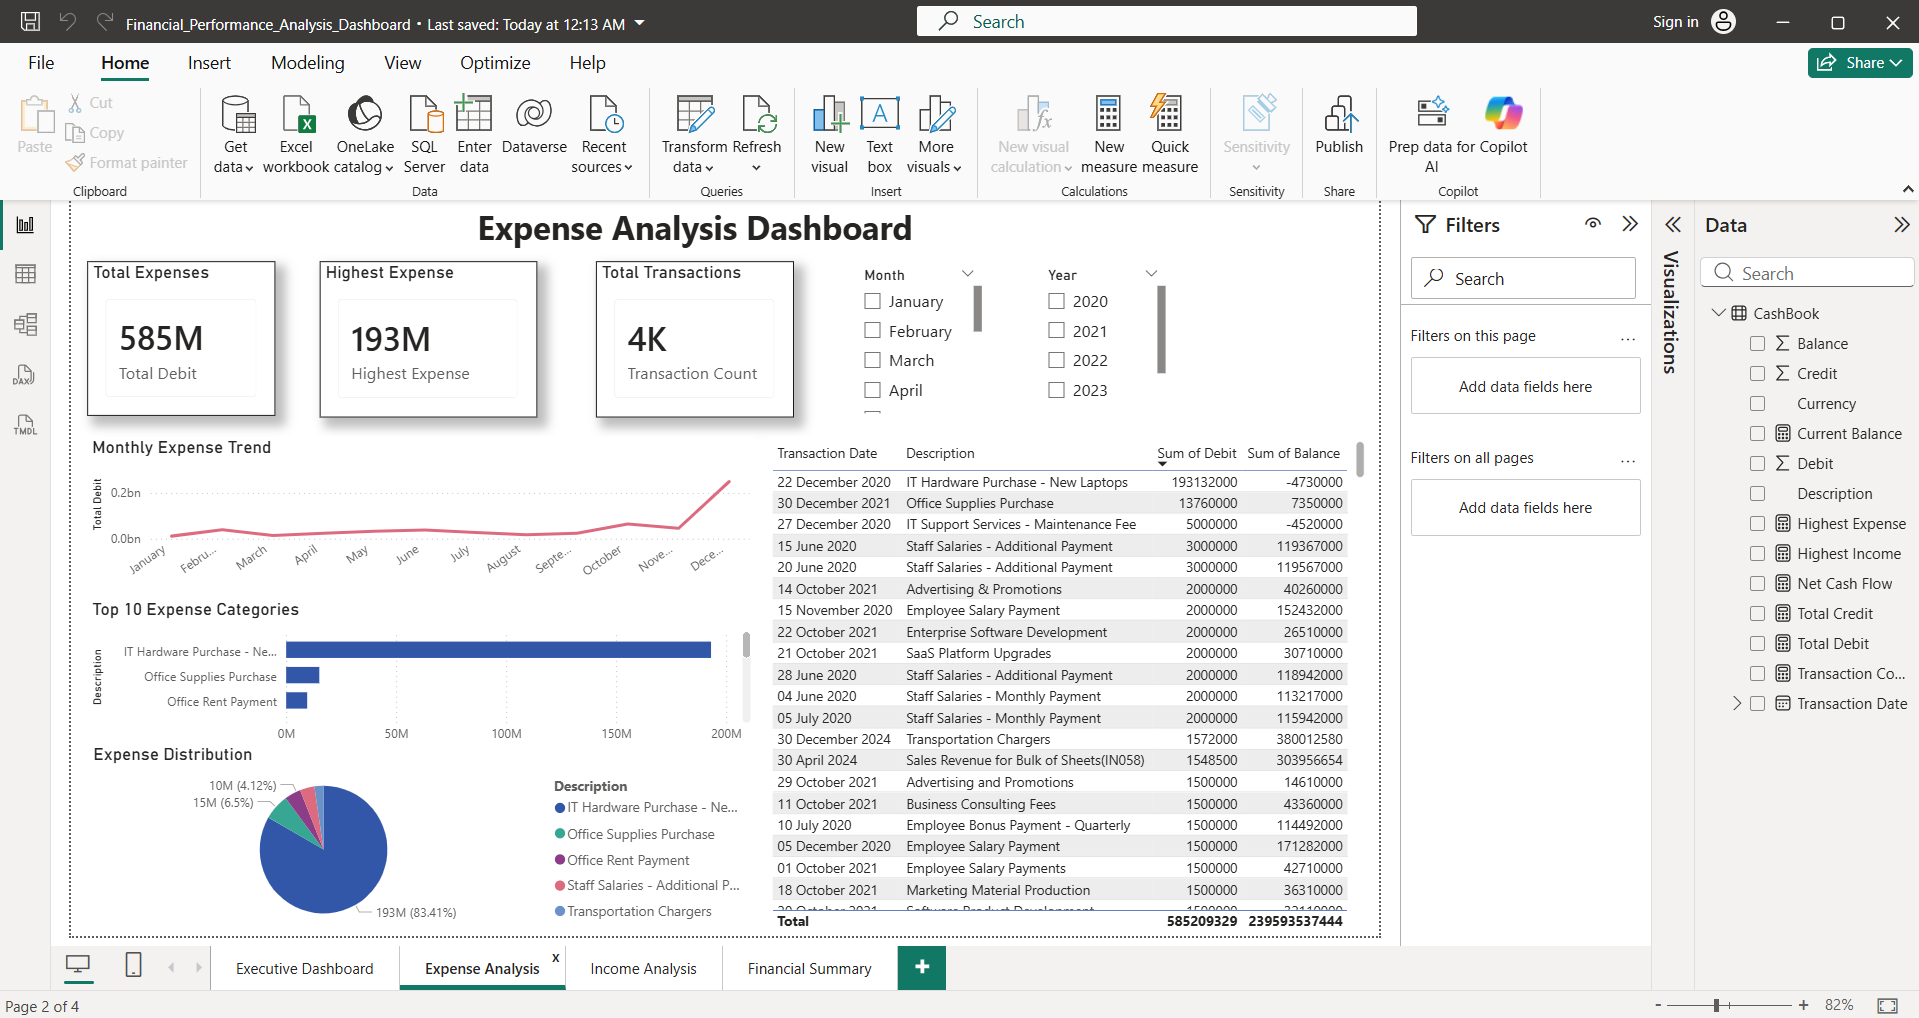

The page's visual inventory and layout, read from the dashboard file:
{"tool":"powerbi","page":{"name":"Expense Analysis","canvas":[1280,720],"ordinal":1},"visuals":[{"type":"textbox","box":[222.9,0,775.7,60],"z":0},{"type":"cardVisual","title":"Total Expenses","fields":{"Data":["CashBook.Total Debit"]},"box":[15.7,60,184.3,151.4],"z":1000},{"type":"cardVisual","title":"Highest Expense","fields":{"Data":["CashBook.Highest Expense"]},"box":[243.3,59.9,212.8,152.9],"z":2000},{"type":"cardVisual","title":"Total Transactions","fields":{"Data":["CashBook.Transaction Count"]},"box":[513.6,59.9,193.2,152.9],"z":3000},{"type":"lineChart","title":"Monthly Expense Trend","fields":{"Category":["CashBook.Transaction Date.Variation.Date Hierarchy.Month"],"Y":["CashBook.Total Debit"]},"box":[15.9,231.1,653,150.4],"z":4000},{"type":"clusteredBarChart","title":"Top 10 Expense Categories","fields":{"Category":["CashBook.Description"],"Y":["CashBook.Total Debit"]},"box":[15.9,390.1,654.2,150.4],"z":5000},{"type":"pieChart","title":"Expense Distribution","fields":{"Category":["CashBook.Description"],"Y":["CashBook.Total Debit"]},"box":[17.1,531.9,654.2,188.3],"z":6000},{"type":"tableEx","fields":{"Values":["CashBook.Transaction Date","CashBook.Description","Sum(CashBook.Debit)","Sum(CashBook.Balance)"]},"box":[679.9,231.1,590.6,489.1],"z":7000},{"type":"slicer","fields":{"Values":["CashBook.Transaction Date.Variation.Date Hierarchy.Year"]},"box":[942.8,59.9,133.3,151.6],"z":8000},{"type":"slicer","fields":{"Values":["CashBook.Transaction Date.Variation.Date Hierarchy.Month"]},"box":[763,59.9,133.3,154.1],"z":9000}]}

Visuals, with their boxes on the page's 1280x720 design canvas (x1, y1, x2, y2). These are canvas units, not pixel positions in the 1919x1018 screenshot, which may show the page scaled, cropped or inside an application window:
textbox: 223, 0, 999, 60
"Total Expenses" cardVisual: 16, 60, 200, 211
"Highest Expense" cardVisual: 243, 60, 456, 213
"Total Transactions" cardVisual: 514, 60, 707, 213
"Monthly Expense Trend" lineChart: 16, 231, 669, 382
"Top 10 Expense Categories" clusteredBarChart: 16, 390, 670, 540
"Expense Distribution" pieChart: 17, 532, 671, 720
tableEx - CashBook.Transaction Date x CashBook.Description: 680, 231, 1270, 720
slicer - CashBook.Transaction Date.Variation.Date Hierarchy.Year: 943, 60, 1076, 212
slicer - CashBook.Transaction Date.Variation.Date Hierarchy.Month: 763, 60, 896, 214
